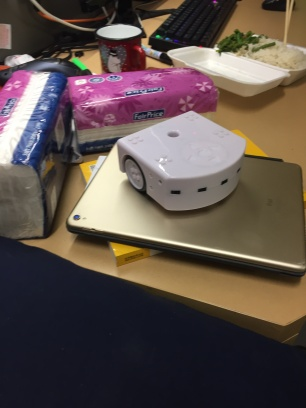thymio: (100, 110, 269, 217)
